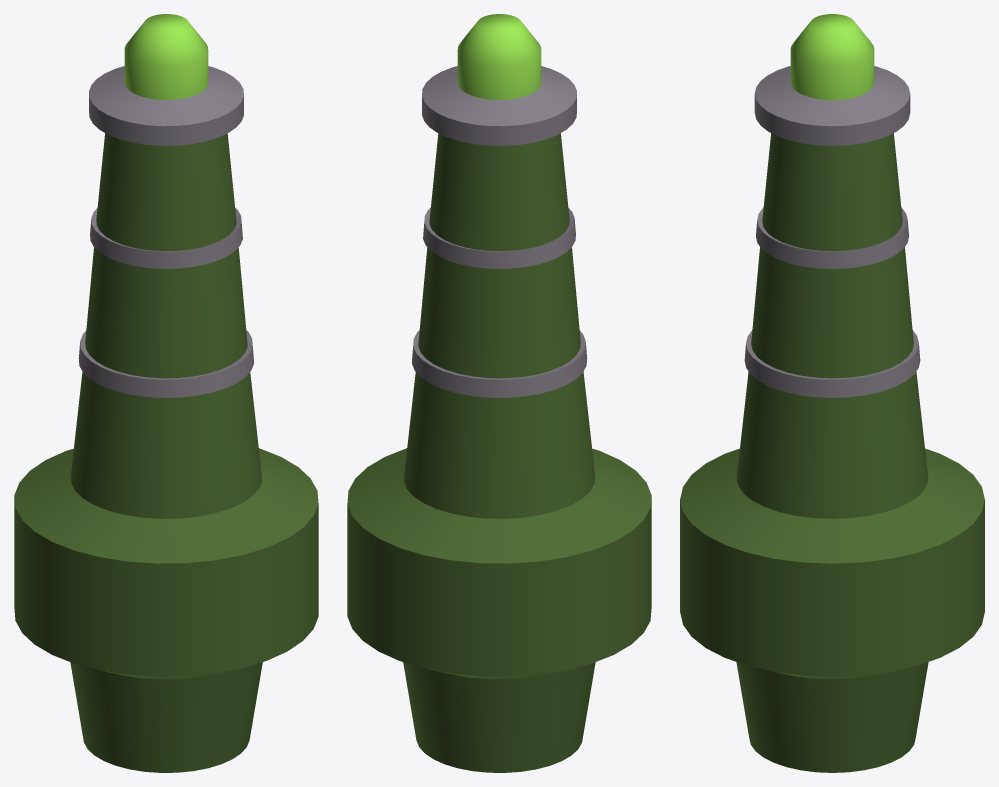
Rendered from buoy1.fbx.
3 renders of one model, left to right at view 1: azimuth 30°, elevation 25°; view 2: azimuth 150°, elevation 25°; view 3: azimuth 270°, elevation 25°, orthographic.
Visible parts, largest first — view 1: Cylinder; view 2: Cylinder; view 3: Cylinder.
Part boxes in pixels (<box>): Cylinder: <box>14,14,318,772</box>; Cylinder: <box>347,14,651,772</box>; Cylinder: <box>680,14,984,772</box>.
Bounding box in the file's own units: 38.7 × 100 × 38.7.
